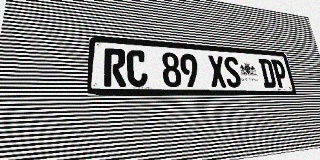8: (161, 52, 182, 87)
9: (179, 53, 200, 87)
C: (126, 50, 148, 87)
D: (258, 59, 277, 88)
P: (271, 59, 289, 88)
R: (104, 48, 126, 87)
S: (223, 56, 242, 87)
X: (207, 55, 227, 87)
